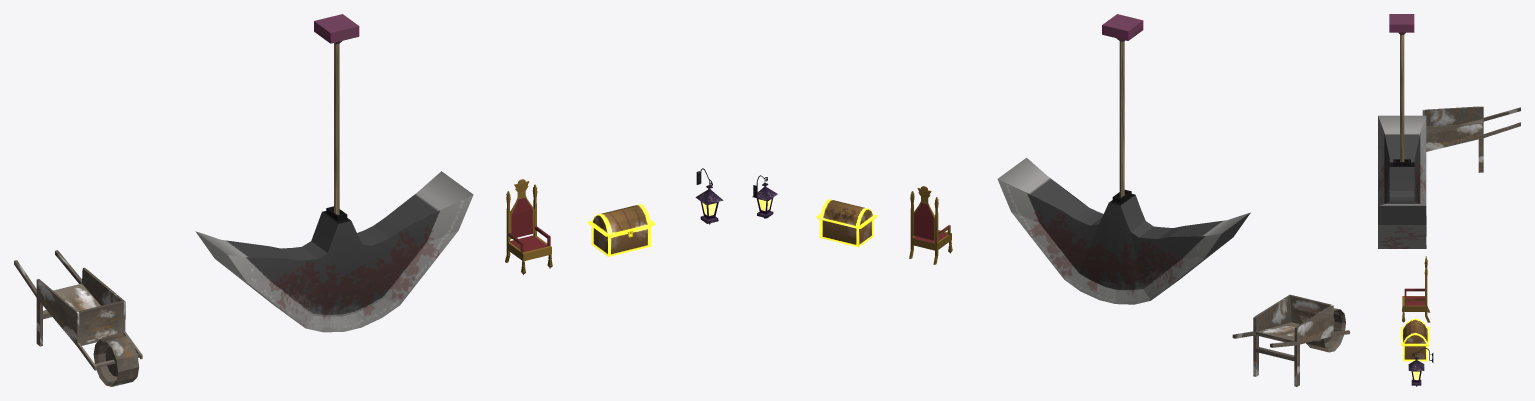
Rendered from CastleObjects 1.fbx.
3 renders of one model, left to right at view 1: azimuth 30°, elevation 25°; view 2: azimuth 150°, elevation 25°; view 3: azimuth 270°, elevation 25°, orthographic. The views are drawn at different scales.
Parts seen in each view (by area): view 1: SwingingBlade, WheelBarrow, Chest, Chair, WallLight; view 2: SwingingBlade, WheelBarrow, Chest, Chair, WallLight; view 3: SwingingBlade, WheelBarrow, Chest, Chair, WallLight.
Boxes of the visible parts, x1,y1,x2,y2 form: SwingingBlade: (195, 14, 473, 332); WheelBarrow: (14, 250, 142, 386); Chest: (587, 204, 655, 256); Chair: (505, 179, 552, 274); WallLight: (695, 168, 723, 224); SwingingBlade: (997, 14, 1250, 304); WheelBarrow: (1232, 294, 1349, 386); Chest: (815, 199, 877, 247); Chair: (909, 186, 952, 264); WallLight: (752, 175, 777, 218); SwingingBlade: (1378, 14, 1426, 248); WheelBarrow: (1422, 106, 1520, 172); Chest: (1401, 318, 1429, 361); Chair: (1402, 256, 1430, 322); WallLight: (1408, 348, 1433, 386).
Bounding box in the file's own units: 4443 × 2029 × 1146.
1 material, 1 textured.
